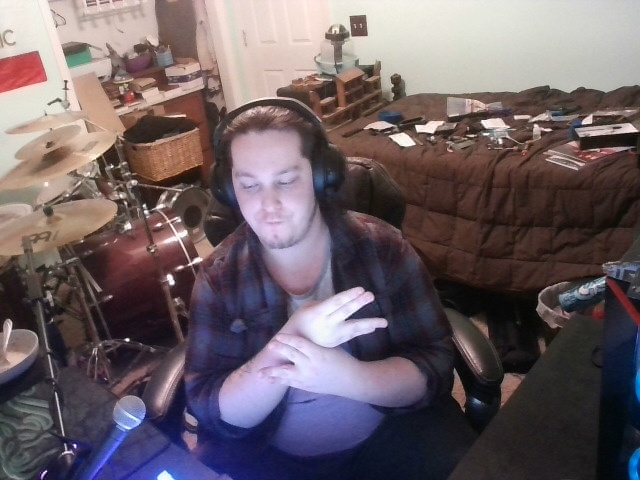world: (237, 277, 398, 418)
